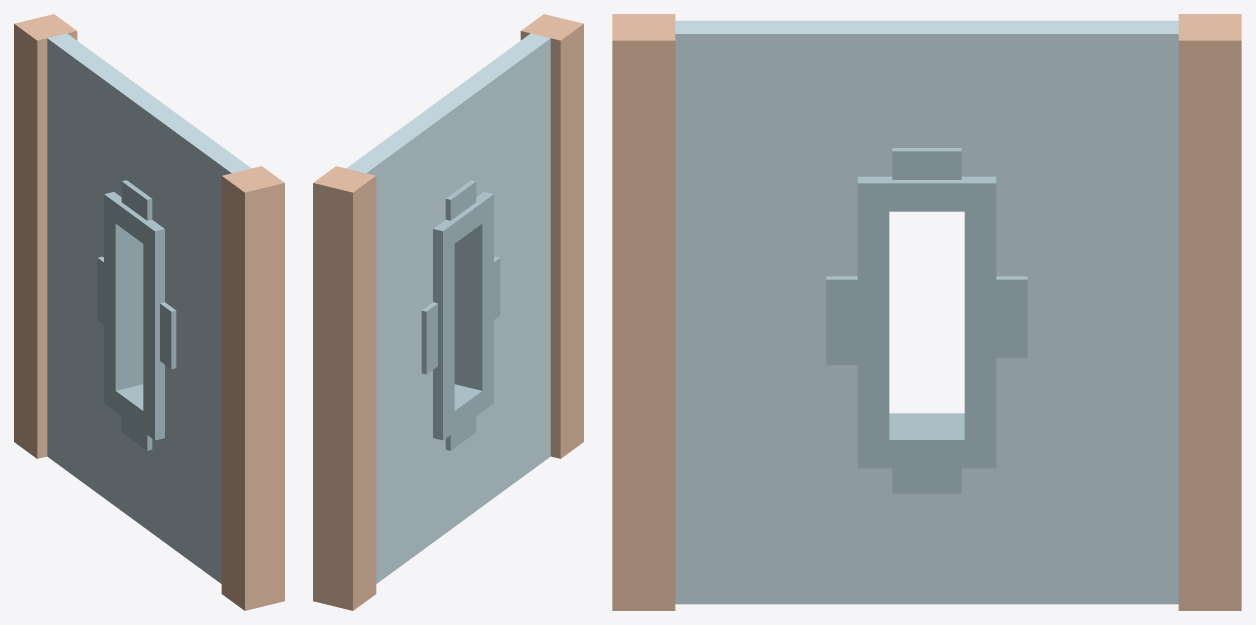
The picture shows the model from 3 angles, left to right: view 1: azimuth 30°, elevation 25°; view 2: azimuth 150°, elevation 25°; view 3: azimuth 270°, elevation 25°; orthographic projection. The views are drawn at different scales.
Parts seen in each view (by area): view 1: wallWindowStone; view 2: wallWindowStone; view 3: wallWindowStone.
Boxes of the visible parts, x1,y1,x2,y2 form: wallWindowStone: [14, 14, 284, 610]; wallWindowStone: [313, 14, 583, 610]; wallWindowStone: [612, 14, 1241, 610].
Bounding box in the file's own units: 0.1 × 1 × 1.
